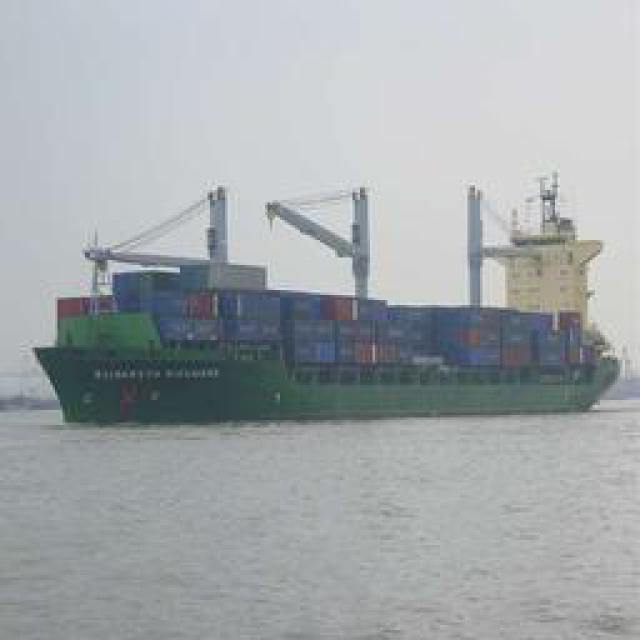Ship: (28, 167, 626, 417)
